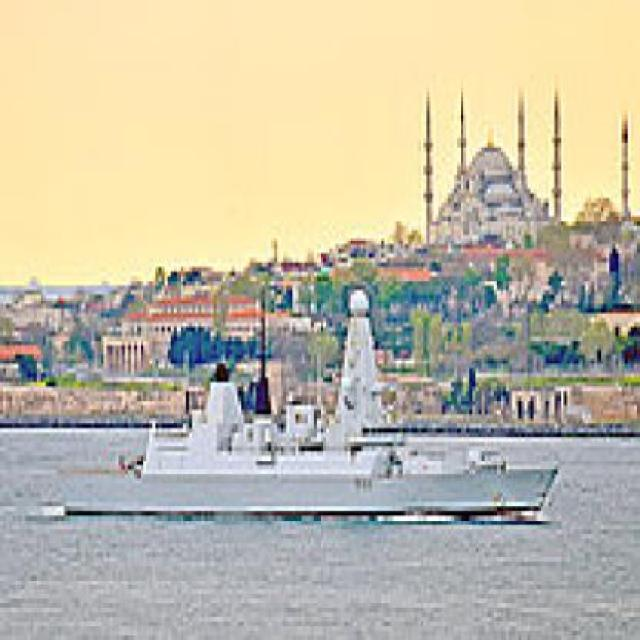warship2: (49, 263, 562, 531)
